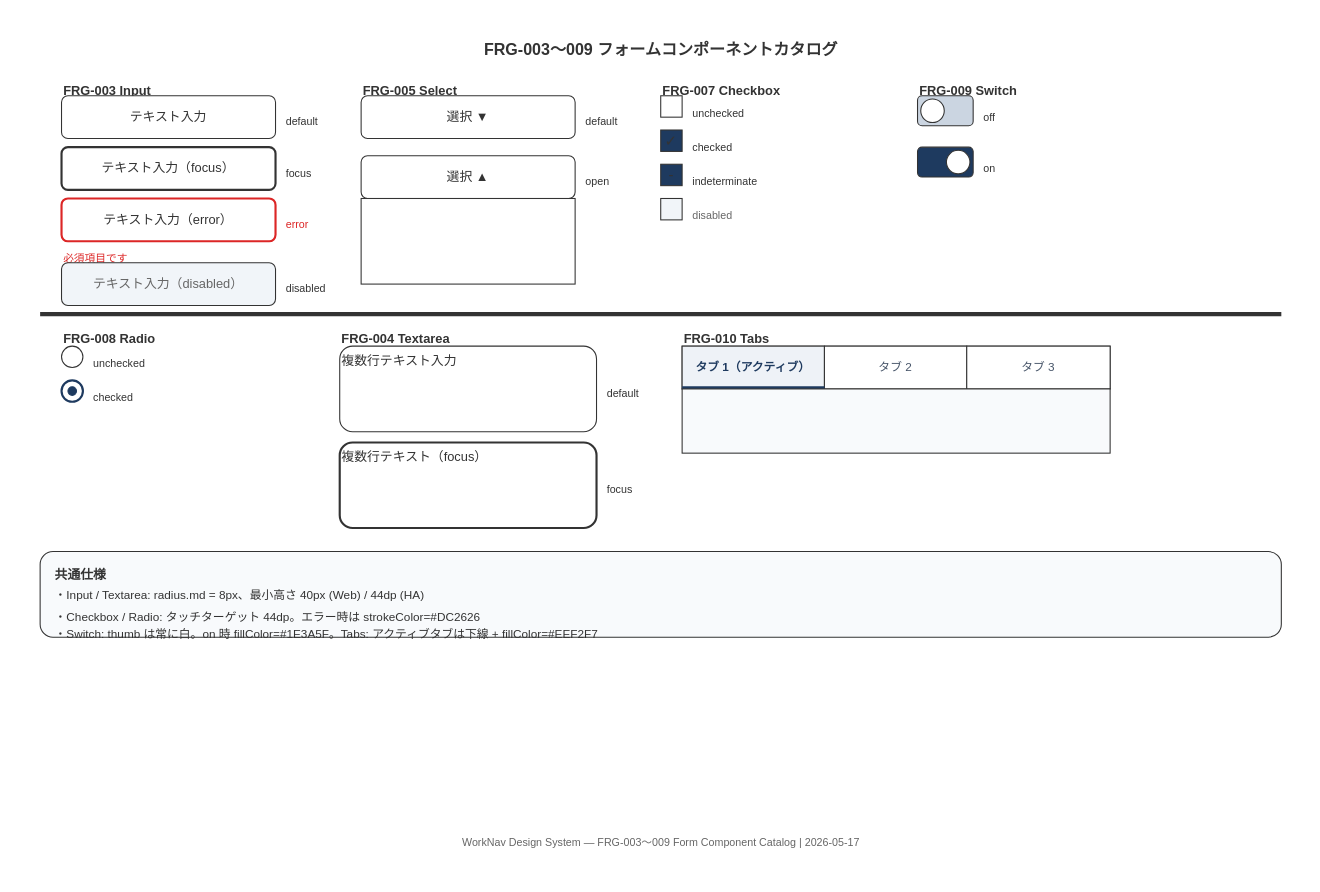
Image size: 1320x892. Some labels were removed from this diagram. Here are the shapes that lost their labels. From the top down, the box of each, then its label:
(360, 197, 575, 284): オプション 1 オプション 2 オプション 3
(681, 388, 1110, 453): タブコンテンツエリア
